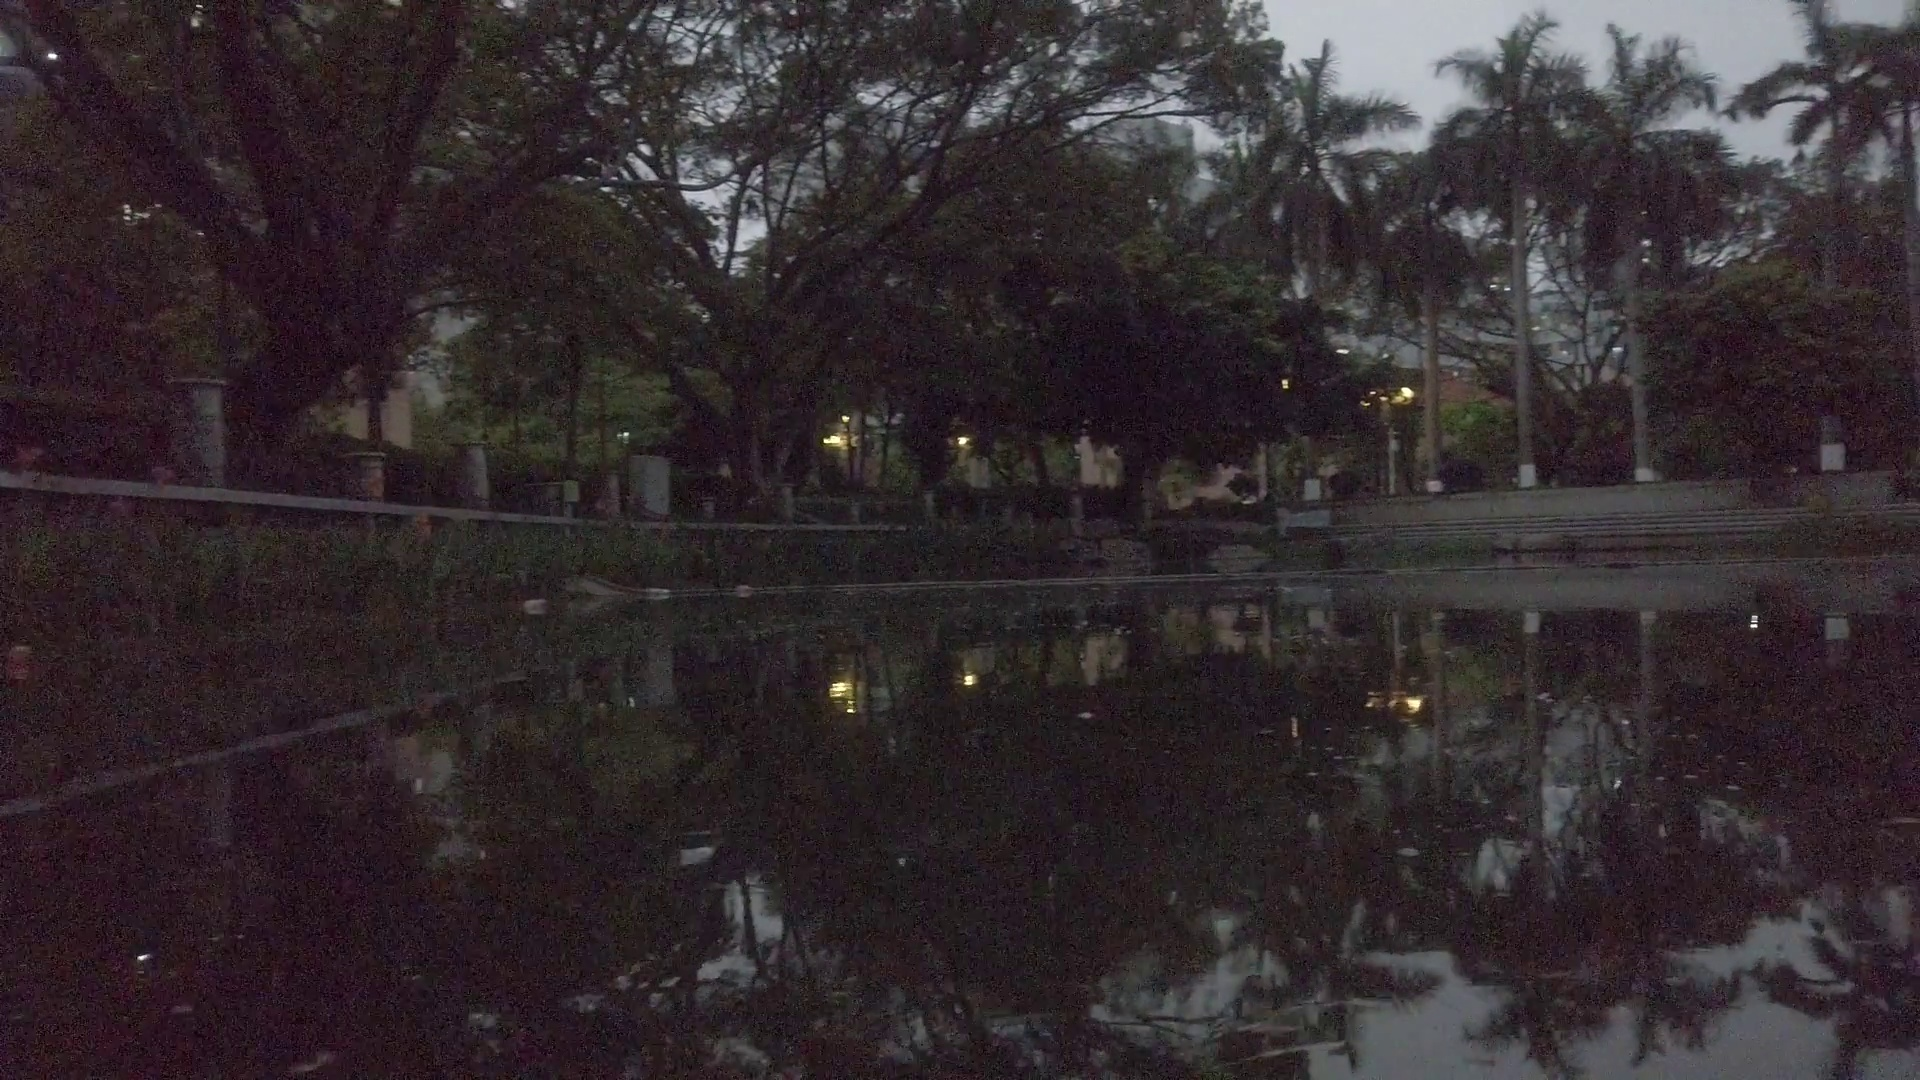bottle: (9, 640, 33, 673), (524, 596, 549, 615), (647, 585, 670, 599), (735, 584, 750, 593)
